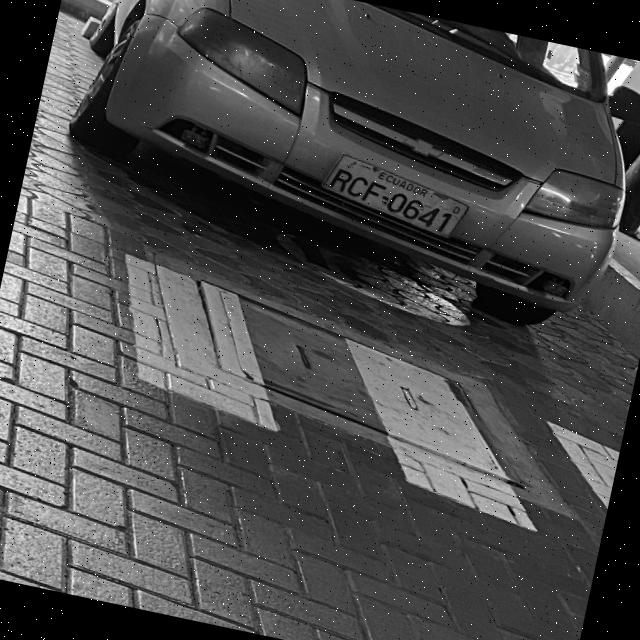Placa: (323, 155, 467, 236)
